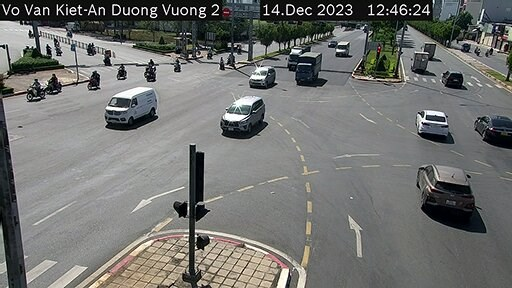bus: (248, 65, 275, 90)
car: (417, 160, 484, 220), (106, 87, 162, 125), (225, 89, 265, 132), (473, 112, 512, 149), (412, 103, 449, 139), (443, 65, 472, 93), (333, 40, 350, 63), (325, 35, 334, 49)
motorbike: (42, 71, 63, 102), (26, 75, 43, 103), (87, 67, 104, 92), (116, 62, 134, 81), (141, 65, 162, 80), (168, 57, 180, 77), (214, 58, 225, 75), (145, 58, 153, 71)
truck: (296, 52, 318, 91), (282, 41, 309, 69), (418, 40, 439, 63), (415, 50, 432, 77)
